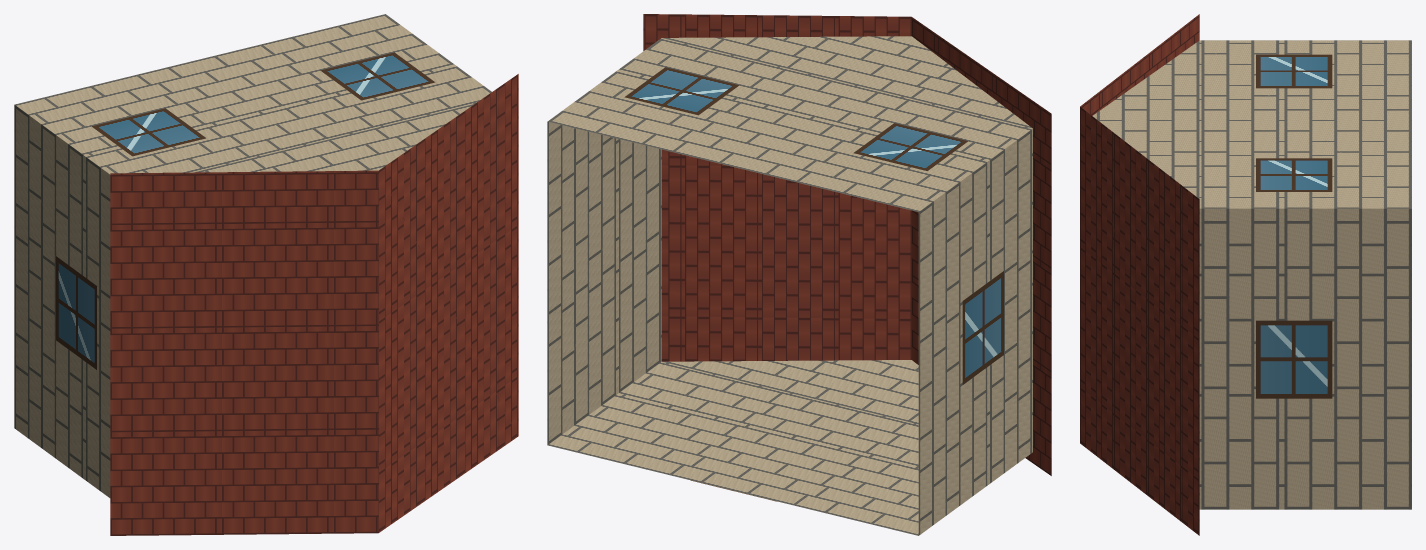
File: house.glb
3 renders of one model, left to right at view 1: azimuth 30°, elevation 25°; view 2: azimuth 150°, elevation 25°; view 3: azimuth 270°, elevation 25°, orthographic. The views are drawn at different scales.
Visible parts, largest first — view 1: TexturedHouse_6m_x_5m_x_5m; view 2: TexturedHouse_6m_x_5m_x_5m; view 3: TexturedHouse_6m_x_5m_x_5m.
Boxes of the visible parts, left/top/right/bottom form: TexturedHouse_6m_x_5m_x_5m: left=14, top=14, right=518, bottom=535; TexturedHouse_6m_x_5m_x_5m: left=547, top=14, right=1051, bottom=535; TexturedHouse_6m_x_5m_x_5m: left=1080, top=14, right=1411, bottom=535.
Bounding box in the file's own units: 6.6 × 5.6 × 5.
4 materials, 4 textured.
